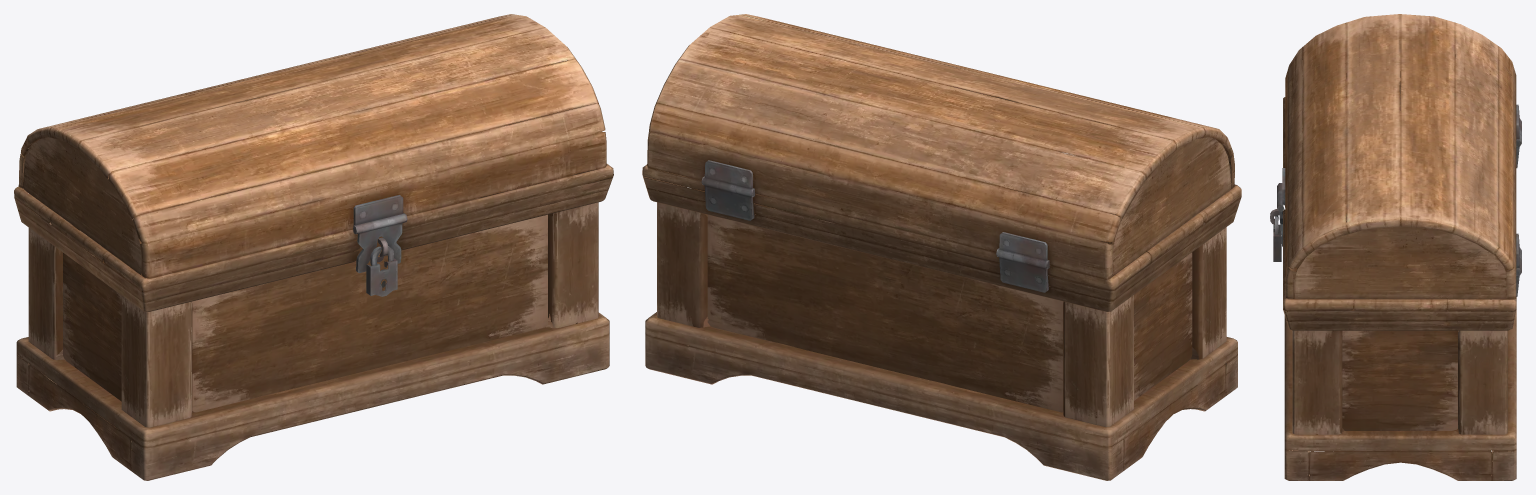
3 views of the same model, side by side, from view 1: azimuth 30°, elevation 25°; view 2: azimuth 150°, elevation 25°; view 3: azimuth 270°, elevation 25° (orthographic). The views are drawn at different scales.
Parts seen in each view (by area): view 1: SM_Storage_Chest_01v2_LOD0; view 2: SM_Storage_Chest_01v2_LOD0; view 3: SM_Storage_Chest_01v2_LOD0.
Part boxes in pixels (bbox=[...]): SM_Storage_Chest_01v2_LOD0: bbox=[14, 14, 613, 480]; SM_Storage_Chest_01v2_LOD0: bbox=[642, 14, 1241, 480]; SM_Storage_Chest_01v2_LOD0: bbox=[1270, 14, 1521, 480].
Size of the model in its own units: 1.31 by 0.7768 by 0.6711.
Materials: 1 (1 with a texture image).
